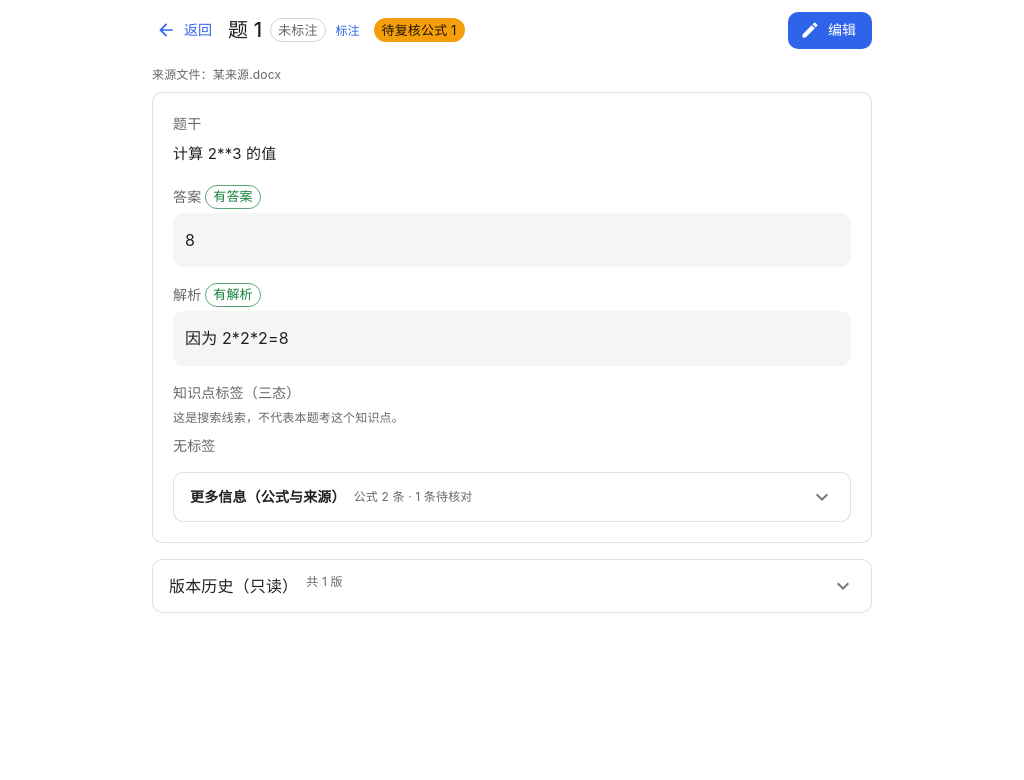
Scenario: B2-2 单题详情：正文宽度与折叠 › 「更多信息」默认关闭；展开后公式状态与来源出现
Expected: the heading "题 1" is shown, top-left (228, 14), bottom-right (262, 46)
Expected: the text "公式列表（2 条）" is not shown
Click the button "更多信息（公式与来源） 公式 2 条 · 1 条待核对" at (268, 497), box top-left (190, 485), bottom-right (834, 509)
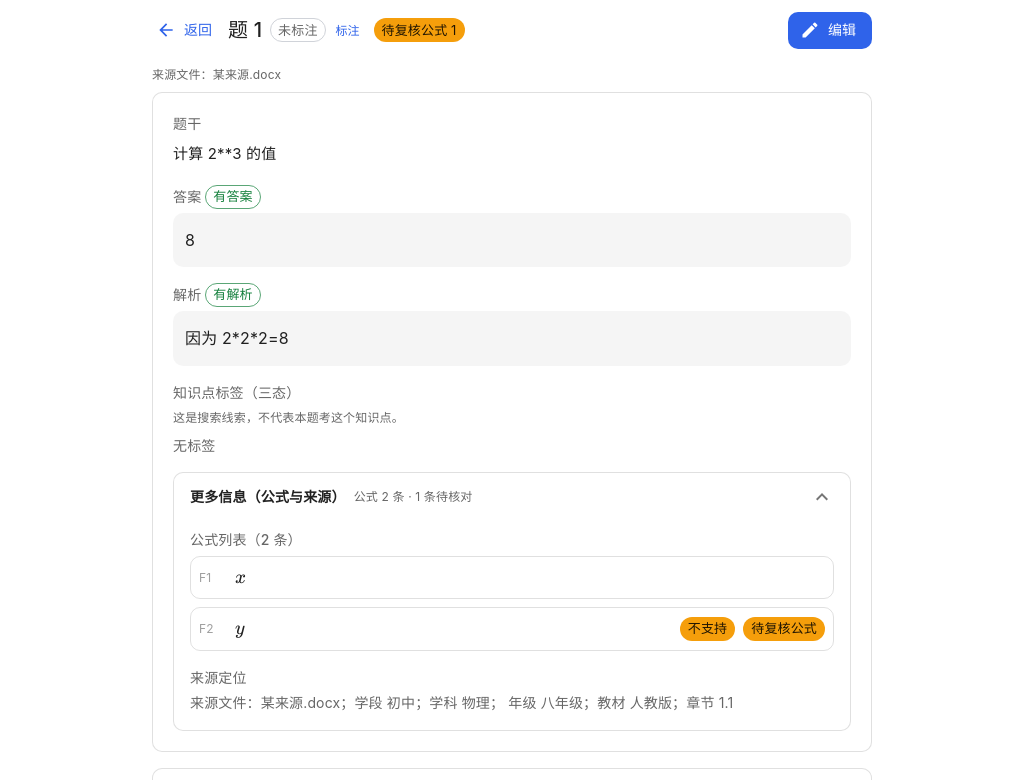
Result: the button "更多信息（公式与来源） 公式 2 条 · 1 条待核对" is expanded at top-left (190, 485), bottom-right (834, 509)
Result: the heading "公式列表（2 条）" is shown at top-left (190, 531), bottom-right (302, 548)
Result: the text "不支持" is shown at top-left (688, 620), bottom-right (727, 636)
